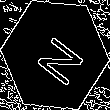N_NW: (26, 24, 84, 86)
